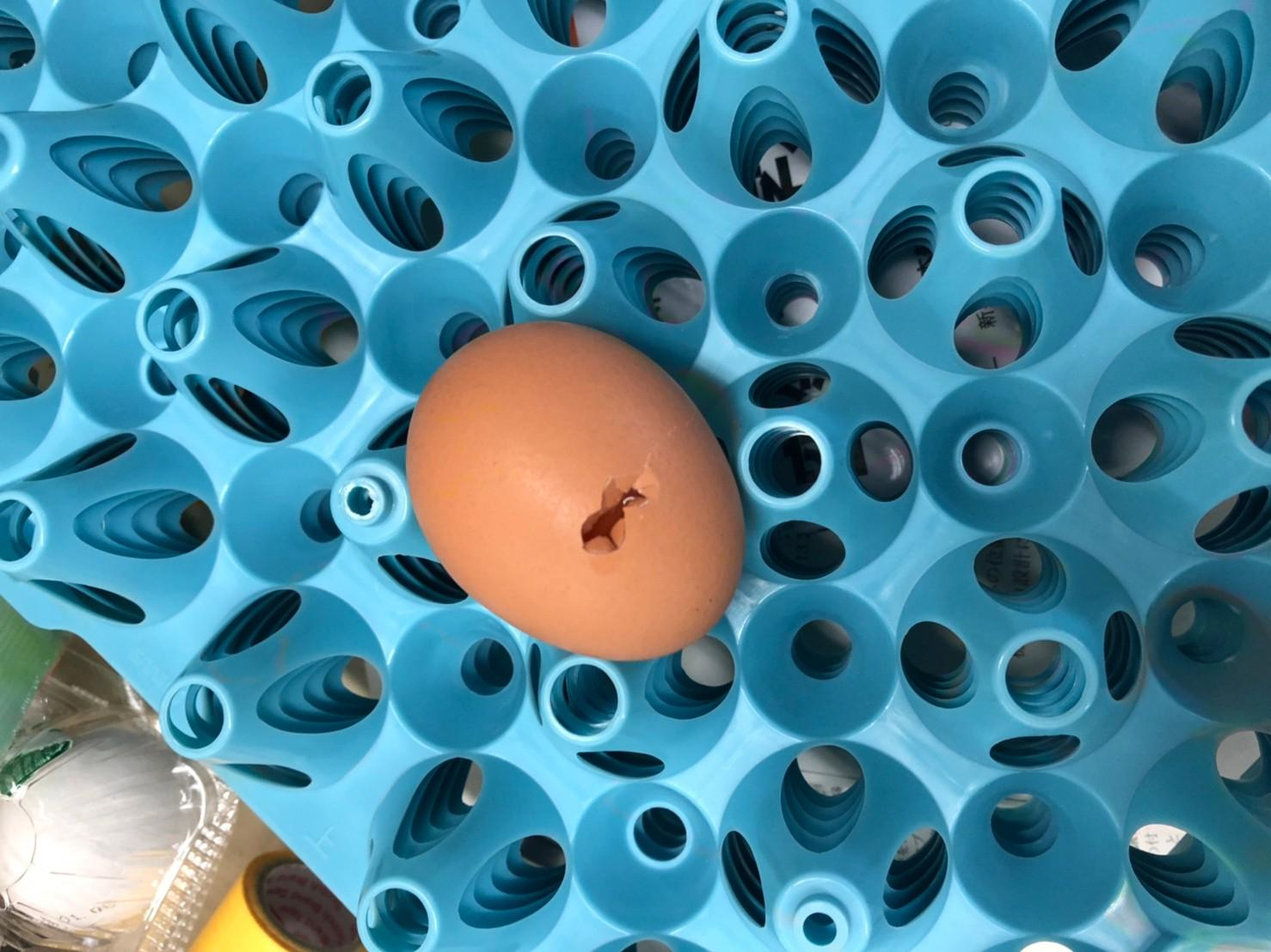egg: (403, 316, 746, 662)
